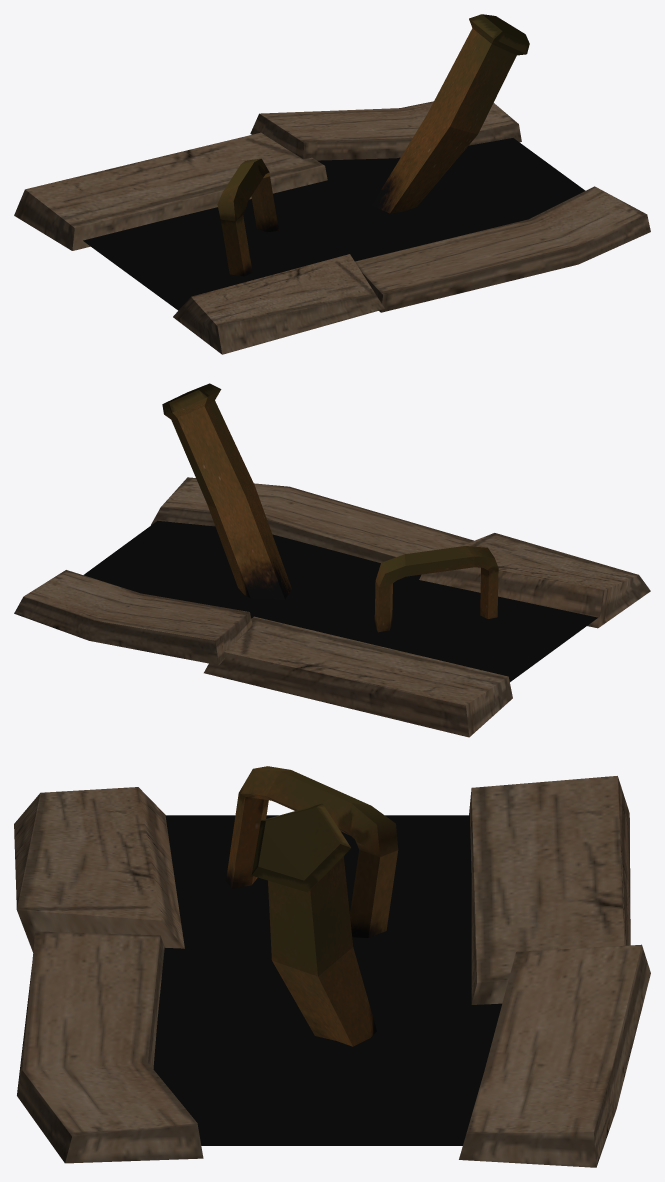
Rendered from pitFall_slim.fbx.
3 views of the same model, one above another, from view 1: azimuth 30°, elevation 25°; view 2: azimuth 150°, elevation 25°; view 3: azimuth 270°, elevation 25° (orthographic). The views are drawn at different scales.
Parts seen in each view (by area): view 1: pitFall_slim; view 2: pitFall_slim; view 3: pitFall_slim.
Part boxes in pixels (x1,y1,x2,y2): pitFall_slim: [14, 14, 650, 354]; pitFall_slim: [14, 383, 650, 737]; pitFall_slim: [14, 766, 650, 1167].
Bounding box in the file's own units: 108 × 54.25 × 81.42.
